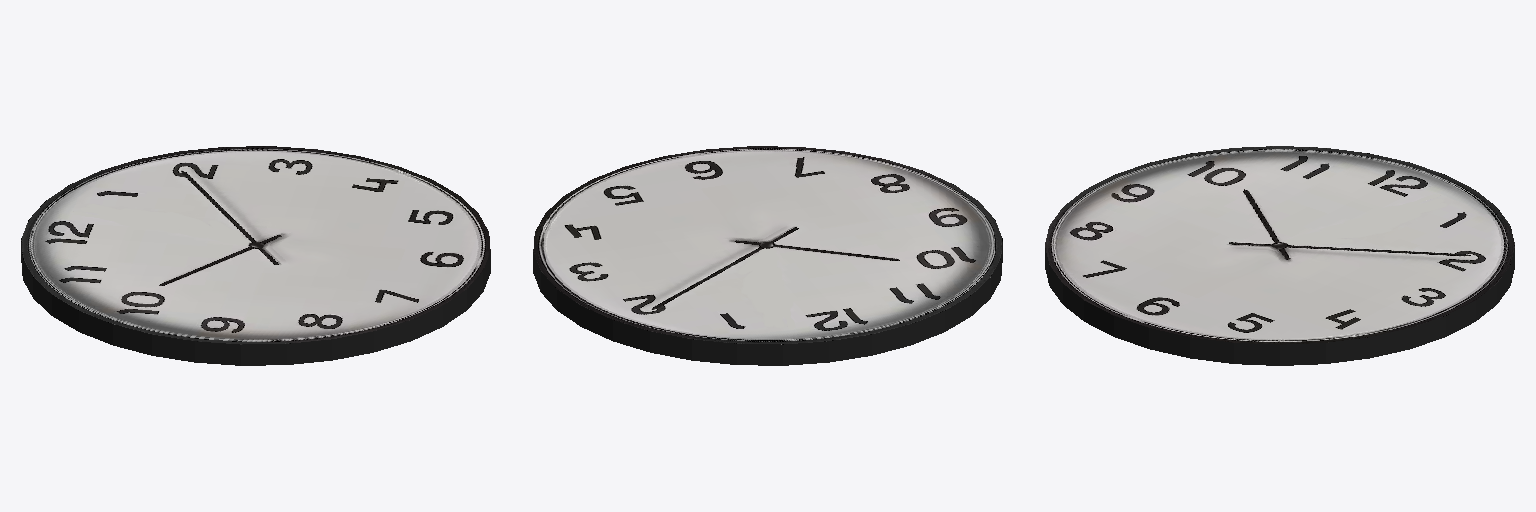
3 renders of one model, left to right at view 1: azimuth 30°, elevation 25°; view 2: azimuth 150°, elevation 25°; view 3: azimuth 270°, elevation 25°, orthographic.
Parts seen in each view (by area): view 1: Cylinder; view 2: Cylinder; view 3: Cylinder.
Boxes of the visible parts, box(x1,y1,x2,y2) form: Cylinder: box(21, 146, 490, 365); Cylinder: box(533, 146, 1002, 365); Cylinder: box(1045, 146, 1514, 365).
Bounding box in the file's own units: 0.6 × 0.03 × 0.6.
1 materials, 1 textured.